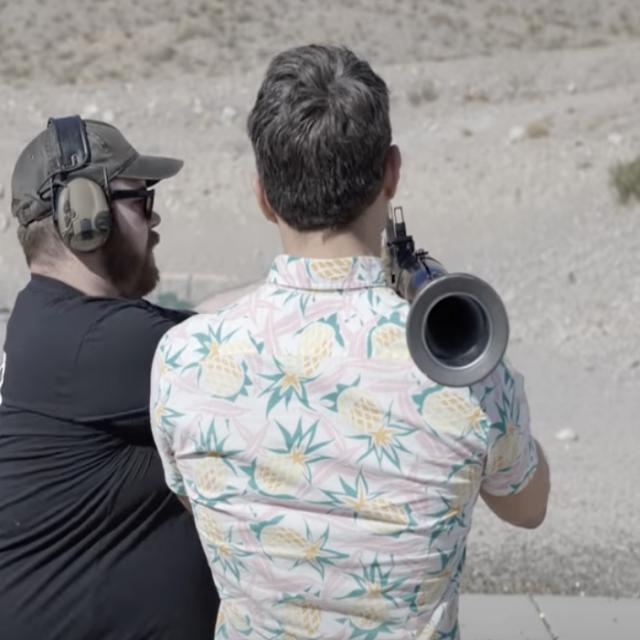bazooka: (383, 198, 541, 406)
